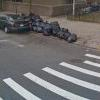Crosswalk: (5, 58, 99, 100)
